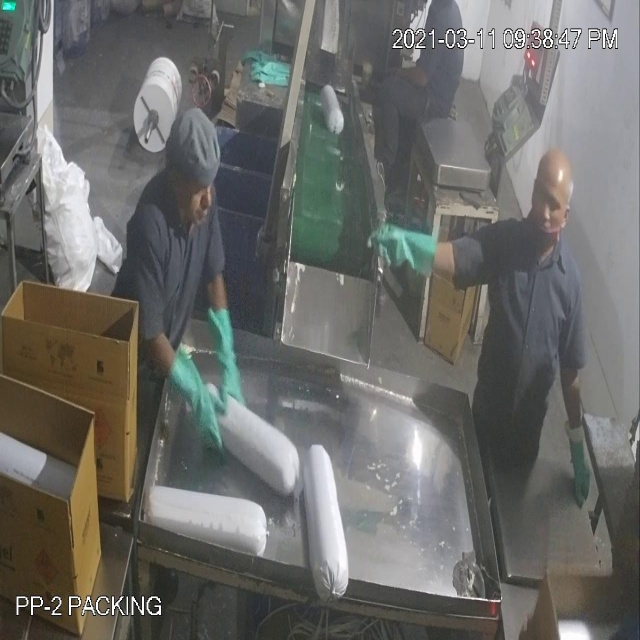Guantes: (164, 332, 228, 464), (367, 207, 427, 299), (209, 304, 248, 428), (562, 416, 597, 514)
